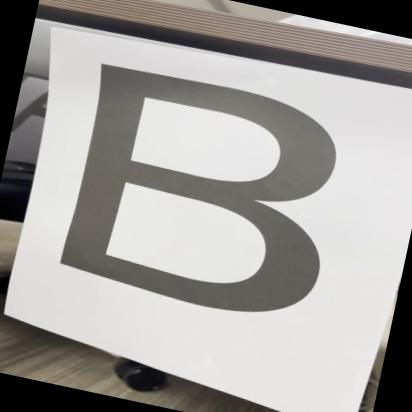seat: (41, 50, 362, 350)
